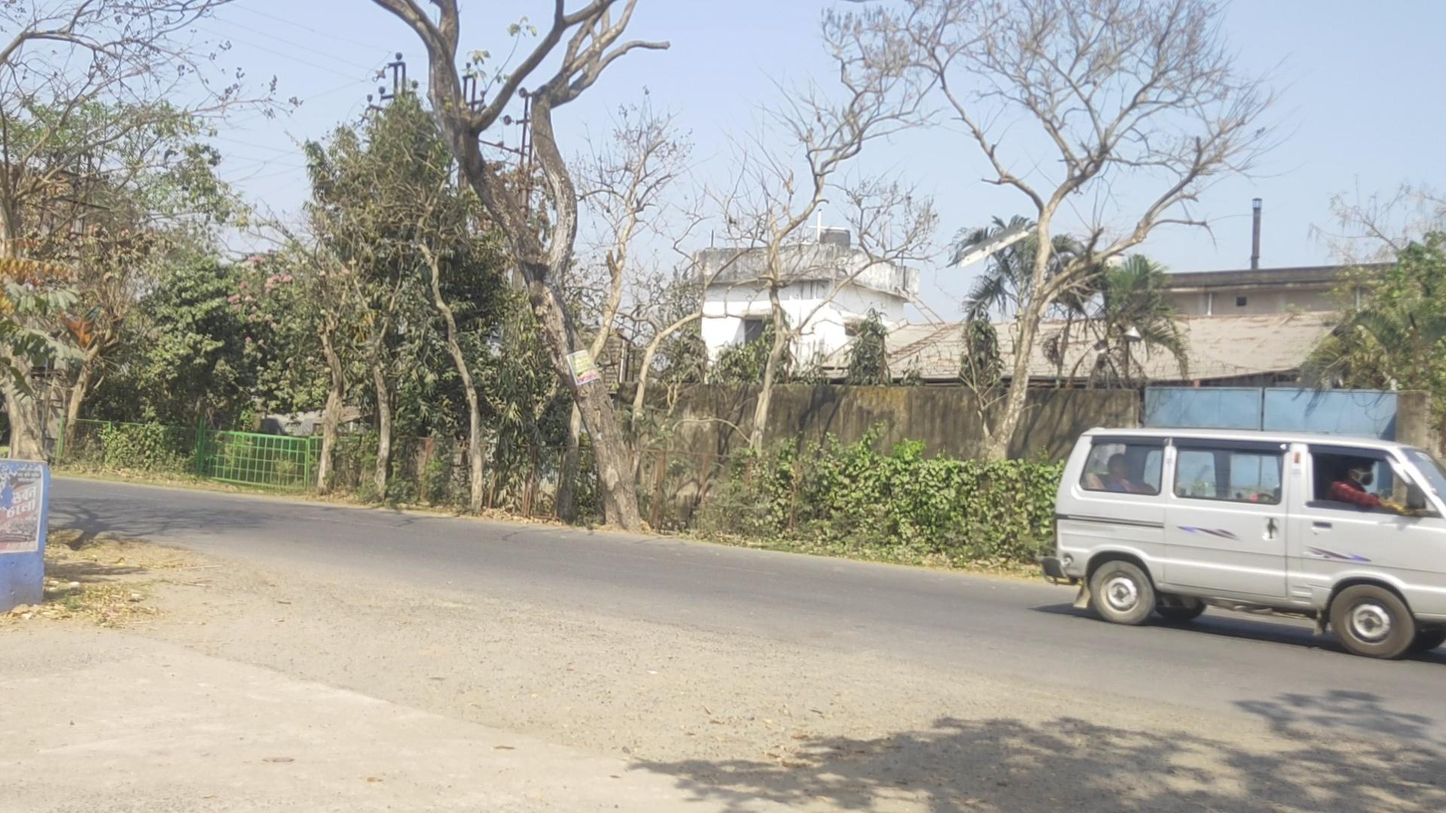van: (1042, 425, 1446, 660)
